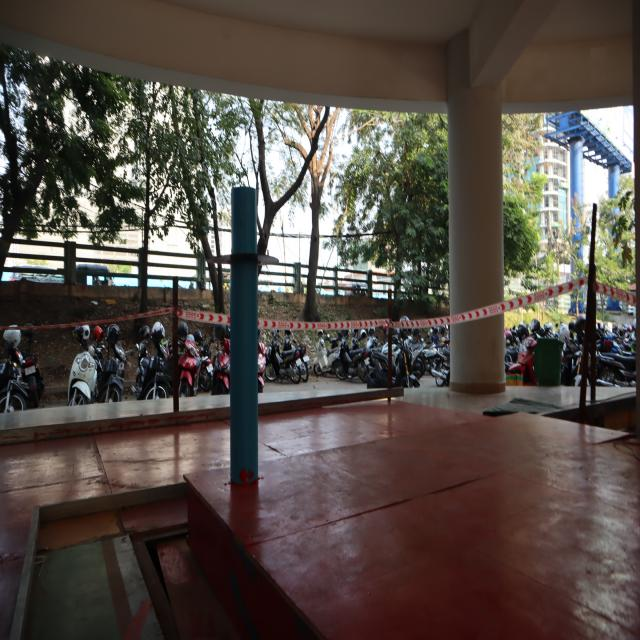pole: (205, 177, 284, 342)
